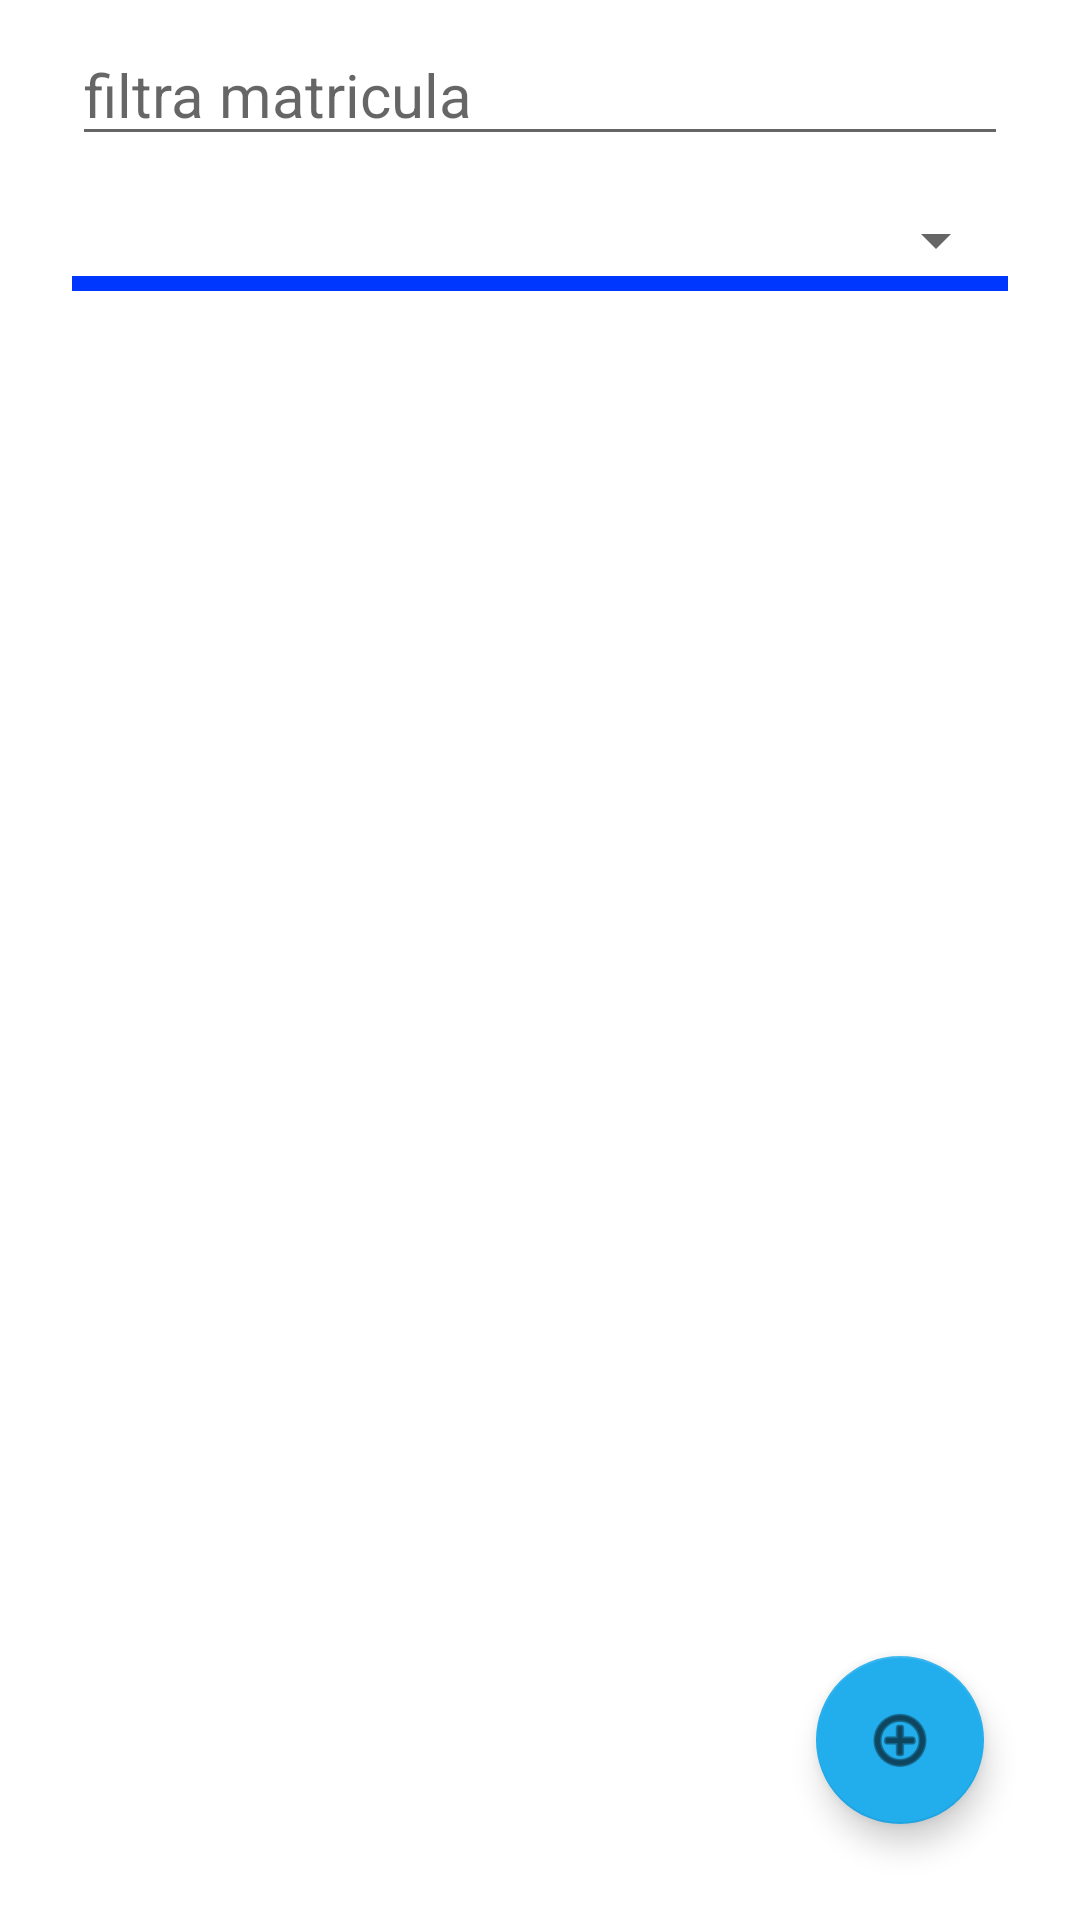

Icon click points for this 1080 x 1920 phone screenshot, format point (x, y):
add: point (900, 1740)
